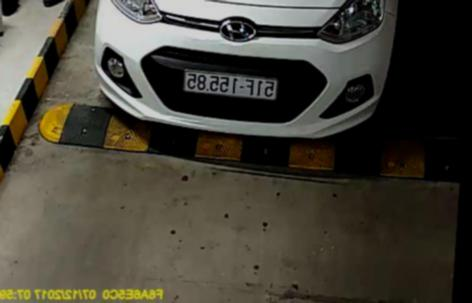License_Plate: (178, 69, 279, 104)
